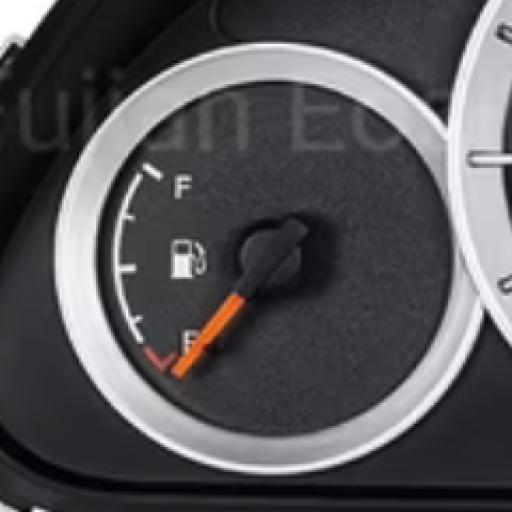empty: (177, 327, 195, 350)
fuel_icon: (167, 234, 208, 282)
full: (172, 169, 194, 203)
guage_area: (108, 110, 330, 389)
needle_center: (230, 214, 309, 302)
needle_tip: (171, 351, 194, 380)
